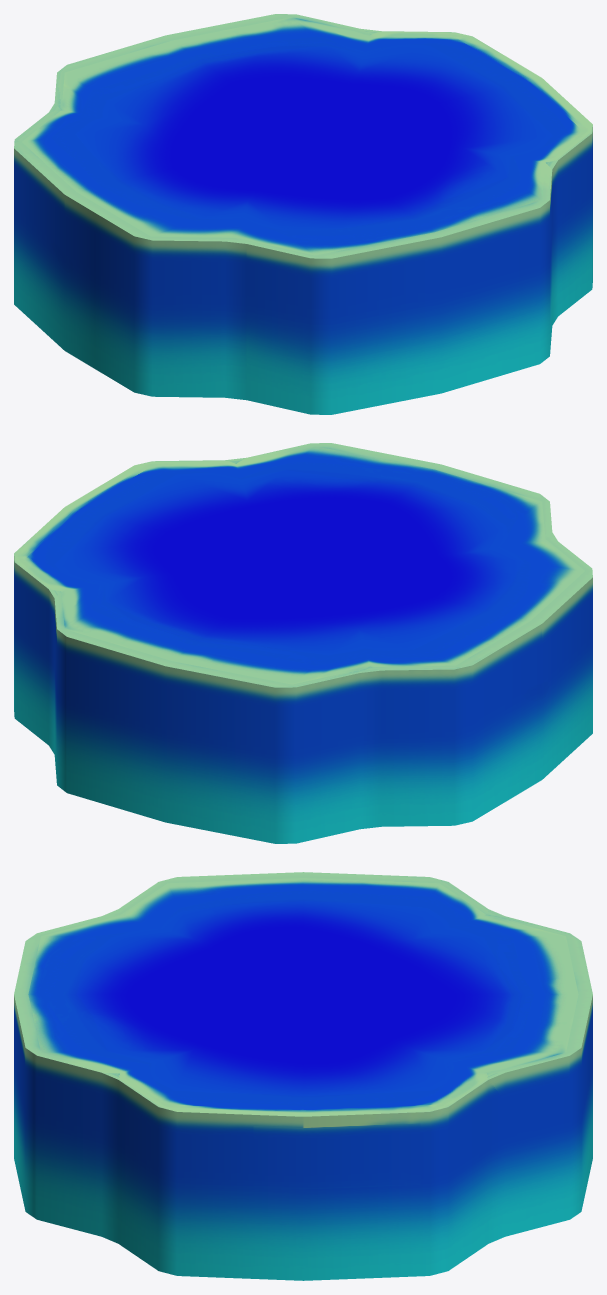
File: yunduo.fbx
The picture shows the model from 3 angles, top to bottom: view 1: azimuth 30°, elevation 25°; view 2: azimuth 150°, elevation 25°; view 3: azimuth 270°, elevation 25°; orthographic projection. The views are drawn at different scales.
Parts seen in each view (by area): view 1: 立方体.001; view 2: 立方体.001; view 3: 立方体.001.
Boxes of the visible parts, x1,y1,x2,y2 form: 立方体.001: (14, 14, 592, 414); 立方体.001: (14, 443, 592, 843); 立方体.001: (14, 872, 592, 1280).
Size of the model in its own units: 10000 by 3126 by 10000.
